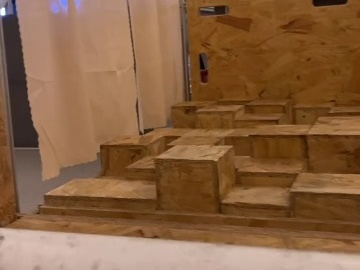curtain: (0, 0, 180, 163)
